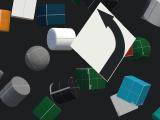Left: (70, 2, 136, 82)
